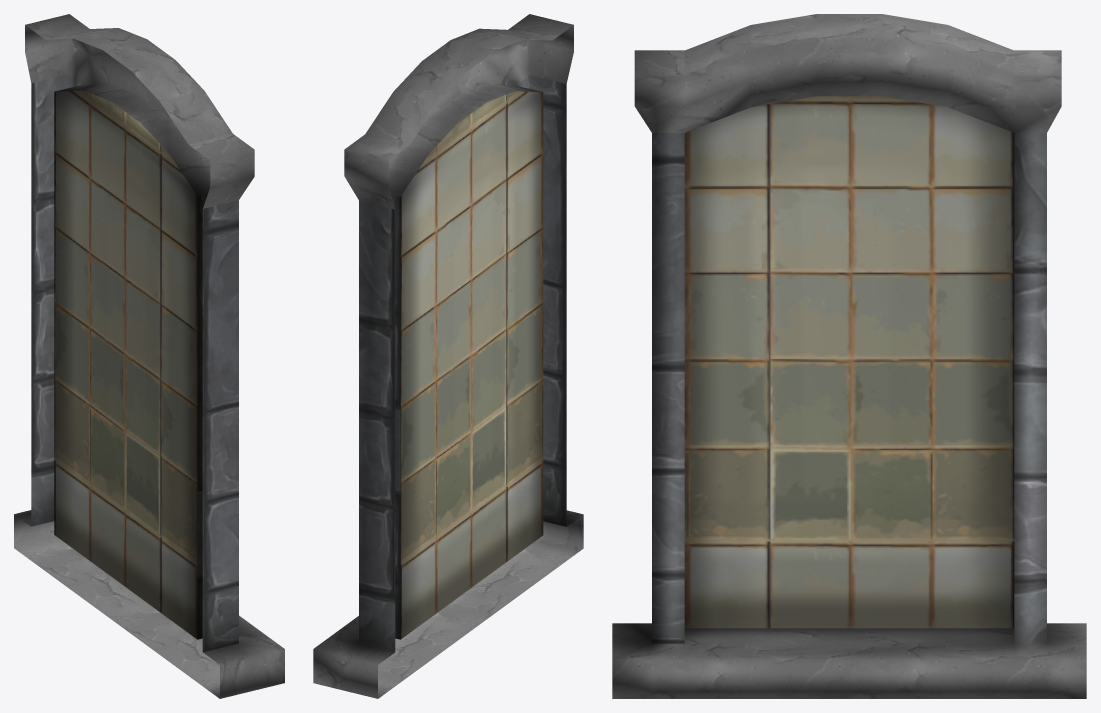
Rendered from window3.fbx.
The picture shows the model from 3 angles, left to right: view 1: azimuth 30°, elevation 25°; view 2: azimuth 150°, elevation 25°; view 3: azimuth 270°, elevation 25°; orthographic projection. The views are drawn at different scales.
Parts seen in each view (by area): view 1: Cube_017; view 2: Cube_017; view 3: Cube_017.
Part boxes in pixels (<box>): Cube_017: <box>14,14,284,698</box>; Cube_017: <box>313,14,583,698</box>; Cube_017: <box>612,14,1086,698</box>.
Size of the model in its own units: 0.4373 by 3.62 by 2.4.
